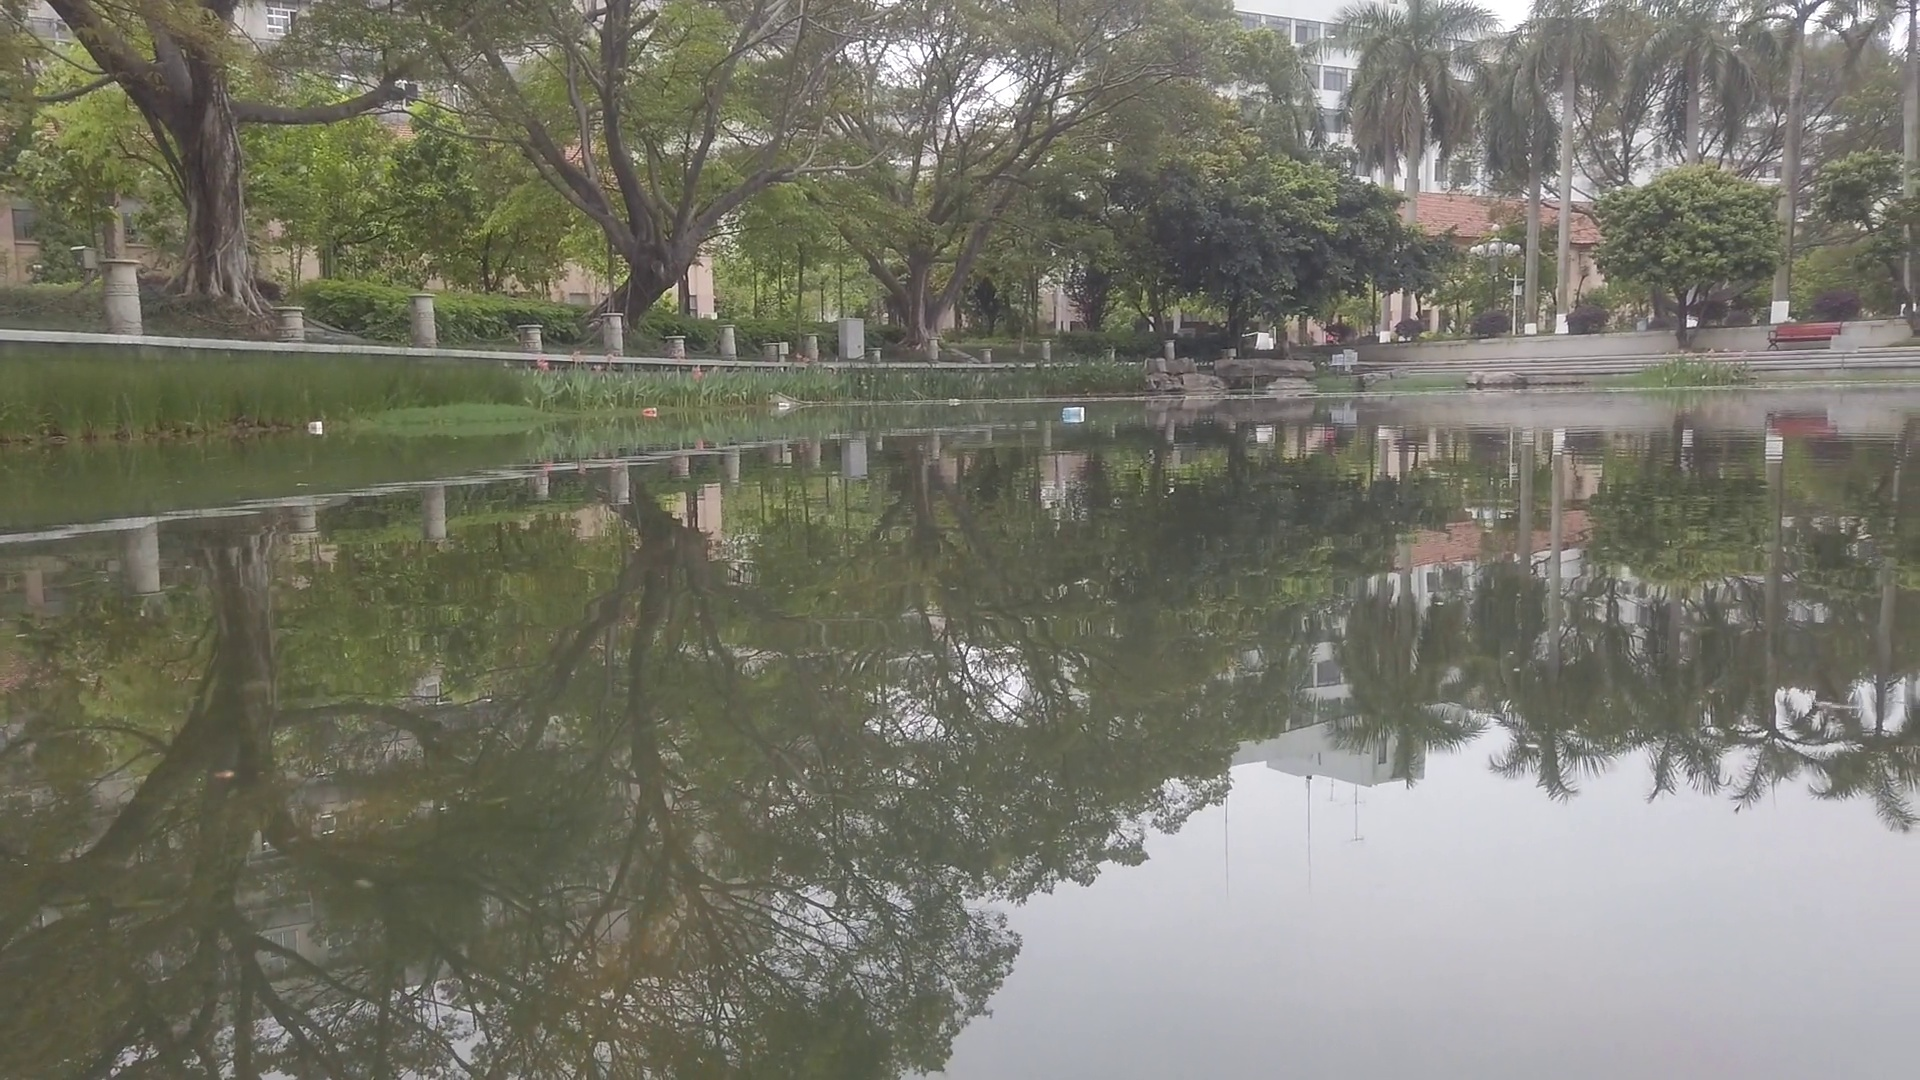bottle: (644, 407, 657, 415), (778, 402, 791, 409), (949, 397, 960, 405)
carton: (1062, 406, 1085, 419), (309, 419, 320, 433)
